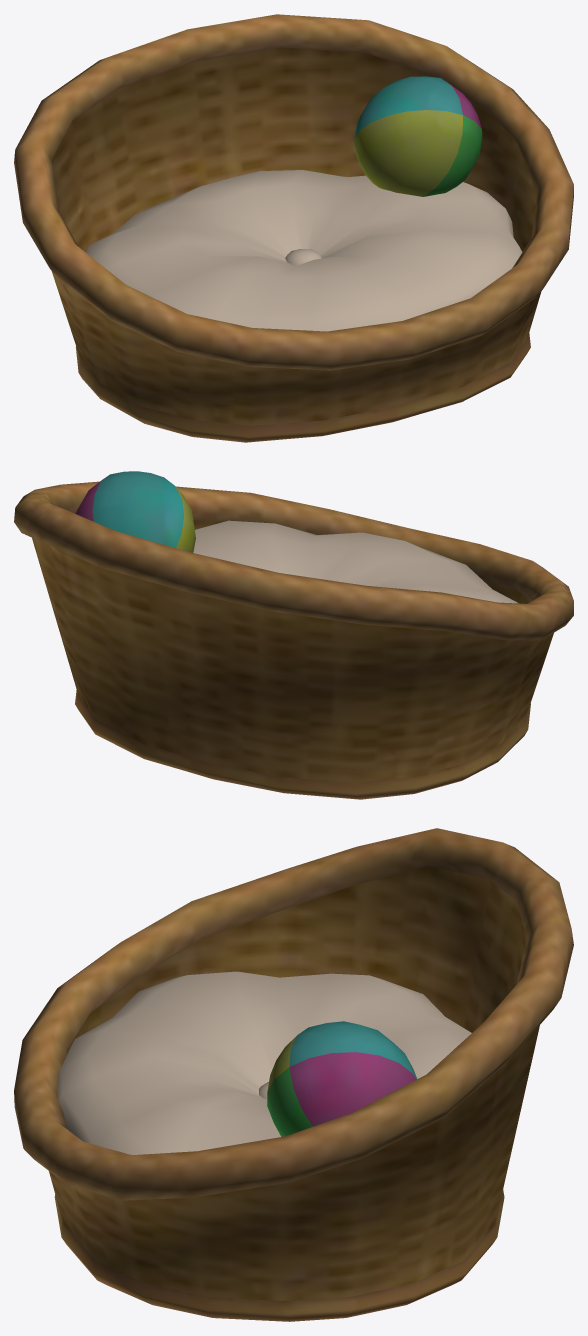
The picture shows the model from 3 angles, top to bottom: view 1: azimuth 30°, elevation 25°; view 2: azimuth 150°, elevation 25°; view 3: azimuth 270°, elevation 25°; orthographic projection. The views are drawn at different scales.
Size of the model in its own units: 8.21 by 3.82 by 6.69.
Materials: 2 (2 with a texture image).
